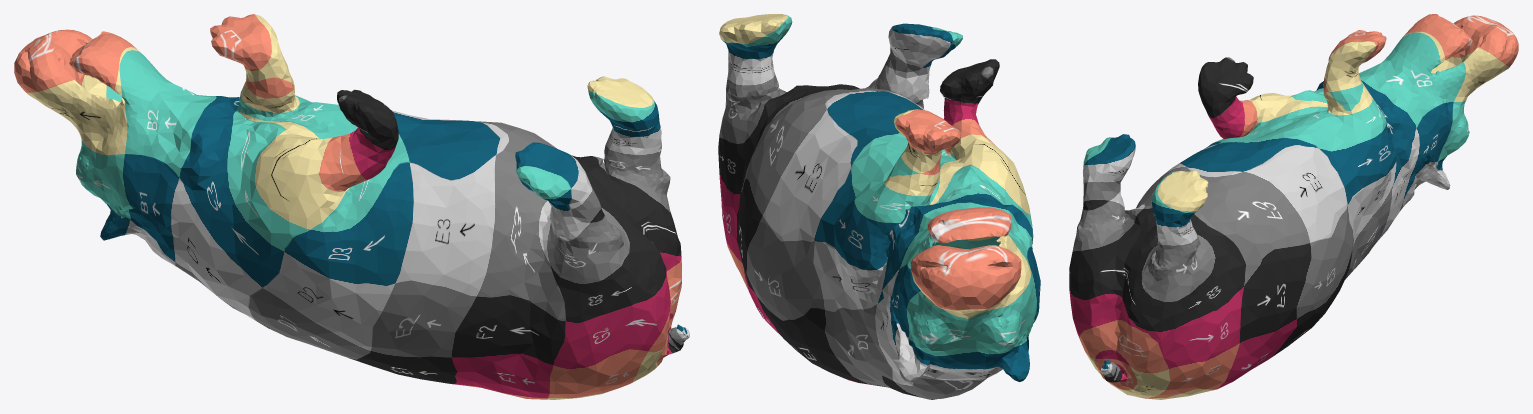
The model's file is horse_03-hippo_03.obj.
The picture shows the model from 3 angles, left to right: view 1: azimuth 30°, elevation 25°; view 2: azimuth 150°, elevation 25°; view 3: azimuth 270°, elevation 25°; orthographic projection. The views are drawn at different scales.
Parts seen in each view (by area): view 1: horse_03-hippo_03_export; view 2: horse_03-hippo_03_export; view 3: horse_03-hippo_03_export.
Part boxes in pixels (x1,y1,x2,y2): horse_03-hippo_03_export: (14,14,689,399); horse_03-hippo_03_export: (718,14,1040,399); horse_03-hippo_03_export: (1069,14,1518,399).
Bounding box in the file's own units: 0.7165 × 0.4961 × 0.7299.
